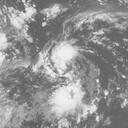cyclone: (36, 36, 90, 82)
